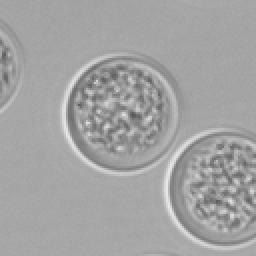picoshell: (62, 52, 178, 174), (162, 126, 254, 248), (0, 18, 22, 112)
